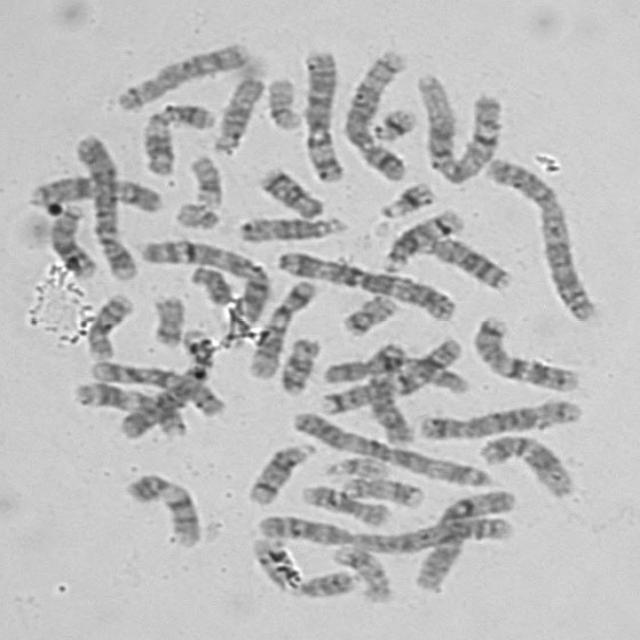A1: (135, 232, 273, 326), (409, 67, 507, 185)
A2: (480, 150, 600, 323), (246, 505, 519, 553)
A3: (282, 404, 494, 489), (269, 243, 460, 323)
B4: (107, 332, 225, 452), (68, 128, 140, 282)
B5: (336, 46, 414, 183), (411, 392, 585, 443)
C10: (82, 354, 229, 418), (308, 355, 468, 399)
C11: (66, 375, 190, 439), (134, 95, 219, 177)
C12: (242, 273, 320, 381), (473, 426, 577, 499)
C6: (405, 482, 520, 594), (295, 43, 347, 183)
C7: (316, 332, 465, 418), (466, 309, 584, 393)
C8: (110, 36, 253, 113), (16, 171, 167, 217)
C9: (244, 531, 359, 600), (117, 465, 205, 550)
D13: (417, 230, 514, 291), (44, 198, 100, 278)
D14: (374, 203, 468, 274), (241, 436, 317, 506)
D15: (206, 69, 267, 155), (232, 209, 350, 244)
E16: (294, 478, 394, 529), (80, 287, 136, 362)
E17: (325, 540, 395, 605), (336, 471, 427, 509)
E18: (252, 160, 327, 220), (272, 330, 323, 396)
F19: (258, 70, 306, 131), (181, 148, 225, 209)
F20: (334, 287, 400, 337), (144, 288, 187, 348)
G21: (371, 176, 437, 219), (365, 100, 419, 144)
G22: (318, 449, 392, 481), (167, 196, 223, 230)
X: (362, 337, 417, 447)
Y: (183, 260, 235, 306)
